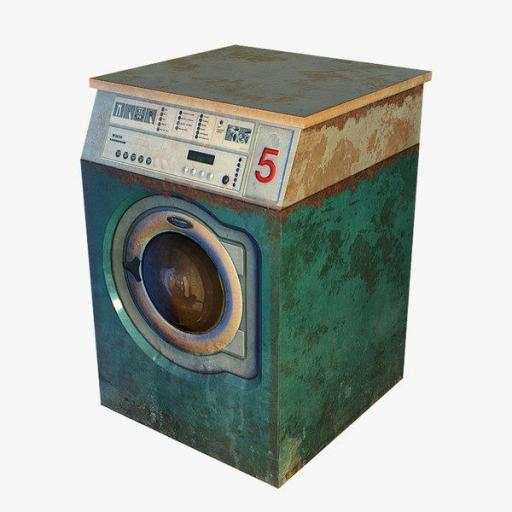segmentation: (256, 73, 443, 209), (86, 162, 263, 218), (325, 204, 422, 298), (264, 163, 358, 226), (396, 223, 411, 279), (356, 158, 386, 180), (301, 228, 315, 265)
